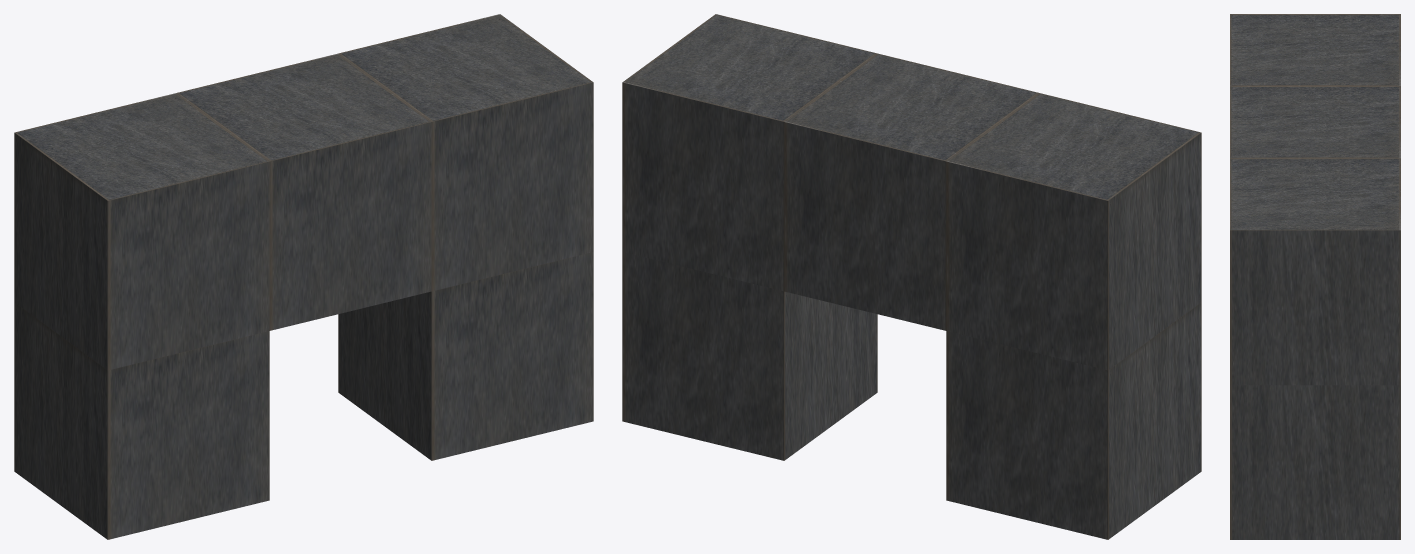
Rendered from Bridge.fbx.
The picture shows the model from 3 angles, left to right: view 1: azimuth 30°, elevation 25°; view 2: azimuth 150°, elevation 25°; view 3: azimuth 270°, elevation 25°; orthographic projection. The views are drawn at different scales.
Parts seen in each view (by area): view 1: Cube.017; view 2: Cube.017; view 3: Cube.017.
Boxes of the visible parts, <box> form: Cube.017: <box>14,14,593,539</box>; Cube.017: <box>622,14,1201,539</box>; Cube.017: <box>1230,14,1400,539</box>.
Bounding box in the file's own units: 30000 × 20000 × 10000.
